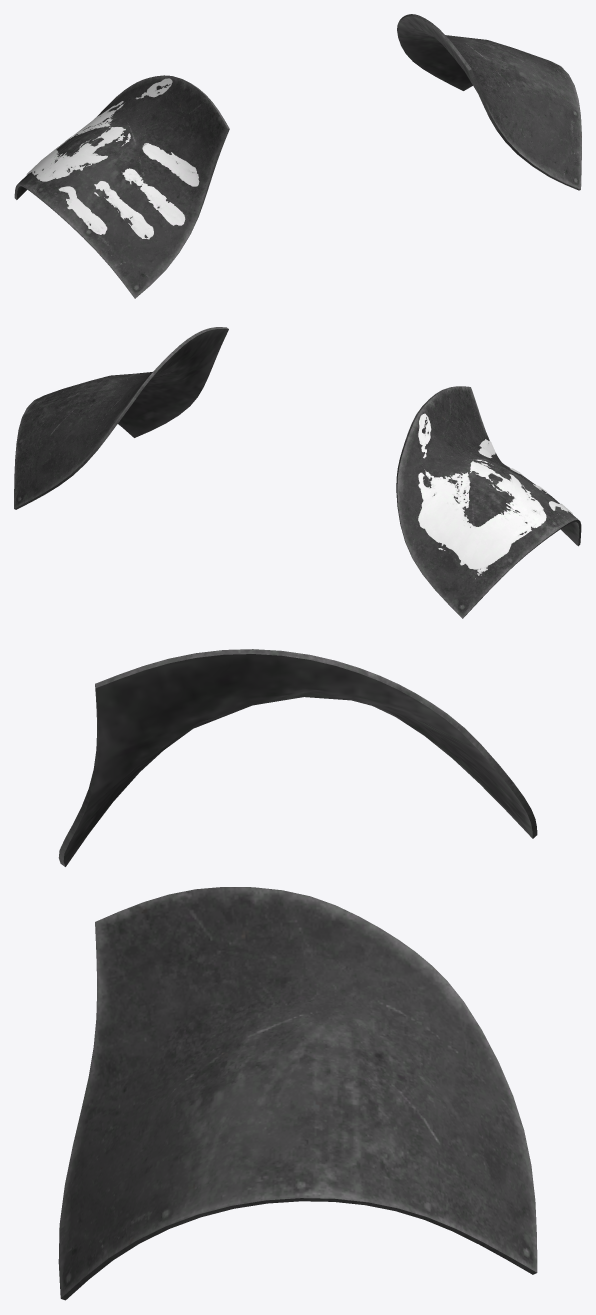
File: sk_uruk_hai_pauldron_light_a3.fbx
3 renders of one model, top to bottom at view 1: azimuth 30°, elevation 25°; view 2: azimuth 150°, elevation 25°; view 3: azimuth 270°, elevation 25°, orthographic. The views are drawn at different scales.
Parts seen in each view (by area): view 1: sk_uruk_hai_pauldron_light_a3.0, sk_uruk_hai_pauldron_light_a3.1; view 2: sk_uruk_hai_pauldron_light_a3.0, sk_uruk_hai_pauldron_light_a3.1; view 3: sk_uruk_hai_pauldron_light_a3.0.
Boxes of the visible parts, x1=… form: sk_uruk_hai_pauldron_light_a3.0: x1=14, y1=14, x2=581, y2=298; sk_uruk_hai_pauldron_light_a3.1: x1=26, y1=78, x2=199, y2=239; sk_uruk_hai_pauldron_light_a3.0: x1=14, y1=327, x2=581, y2=618; sk_uruk_hai_pauldron_light_a3.1: x1=418, y1=413, x2=572, y2=578; sk_uruk_hai_pauldron_light_a3.0: x1=58, y1=649, x2=537, y2=1300.
Size of the model in its own units: 0.5964 by 0.2364 by 0.1715.
2 materials, 2 textured.
